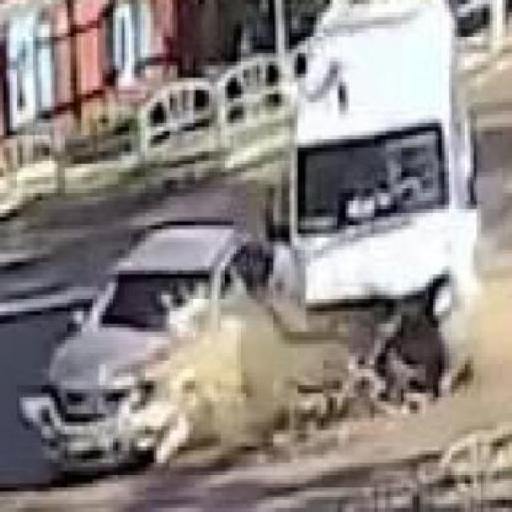小汽车撞小汽车: (20, 0, 479, 478)
